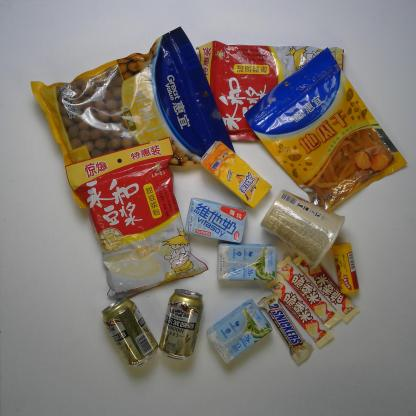Alcohol: (99, 297, 159, 372), (160, 290, 205, 360)
Candy: (330, 240, 360, 297)
Chocolate: (266, 273, 334, 348), (293, 250, 360, 324), (278, 254, 342, 330), (258, 293, 314, 366)
Dried Food: (29, 28, 236, 207)
Dried Fruit: (243, 48, 411, 213)
Drink: (200, 138, 272, 210)
Instant Drink: (65, 136, 209, 298), (197, 46, 344, 142)
Instant Noodles: (259, 188, 345, 270)
Milk: (209, 301, 272, 363), (185, 197, 248, 246), (216, 241, 280, 281)
